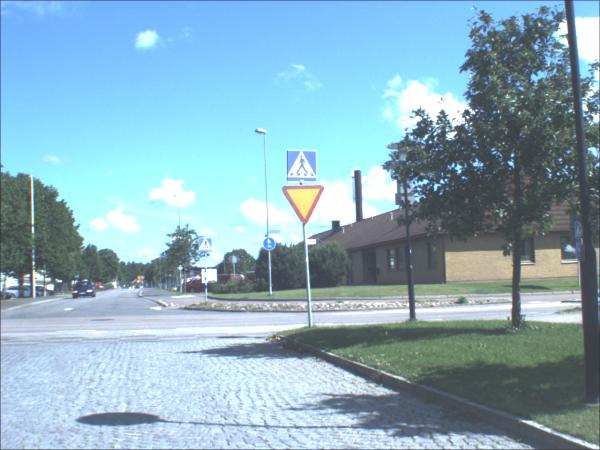GIVE_WAY: (283, 186, 327, 226)
PASS_RIGHT_SIDE: (577, 245, 587, 263)
PEDESTRIAN_CROSSING: (289, 151, 319, 185), (200, 239, 214, 253), (576, 223, 586, 240)
PRIORITY_ROAD: (179, 267, 186, 273)
